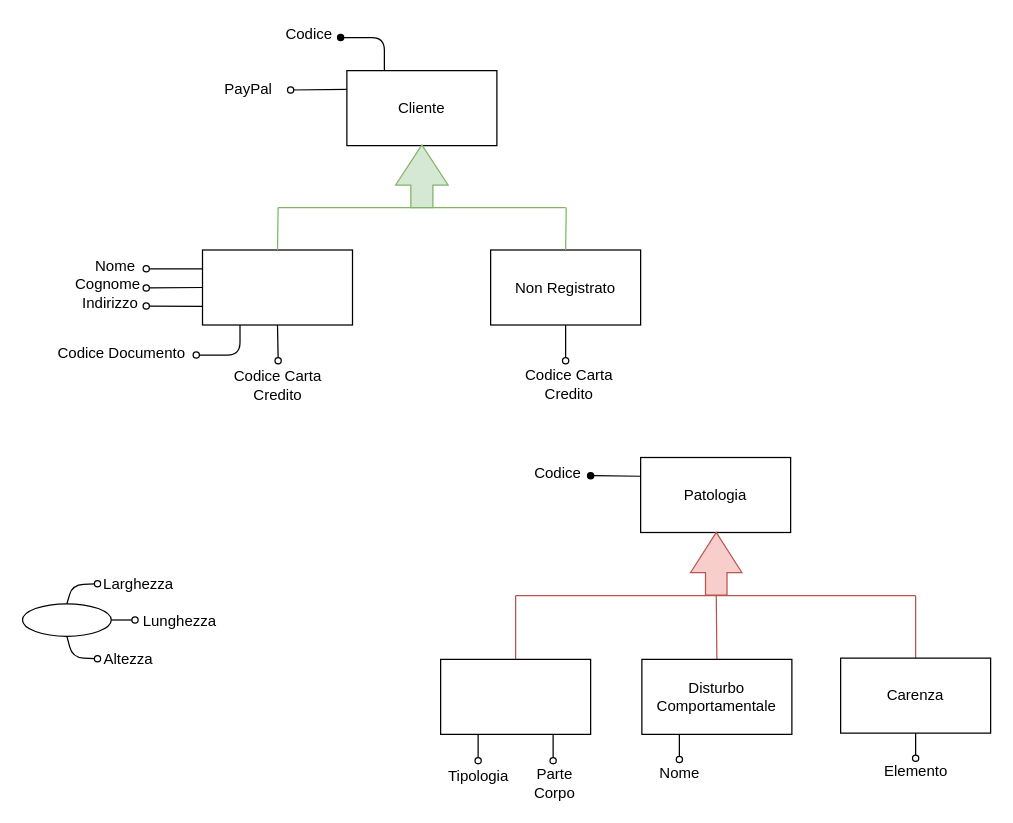
The diagram is 1013 pixels wide and 823 high, and some of its shapes have lost their labels. Here are the shapes that lost their labels. From the top down, the box of each, then its label:
(201, 249, 352, 325): Registrato
(21, 602, 111, 636): Dimensione
(439, 658, 591, 734): Lesione
